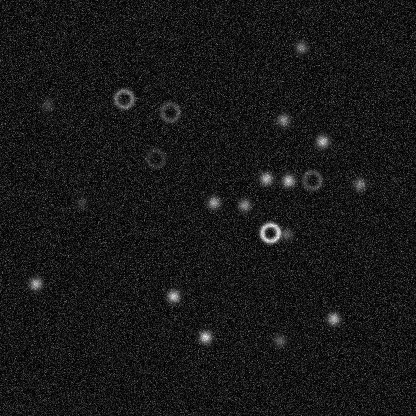Ring: (111, 86, 135, 110), (157, 99, 181, 123), (143, 146, 167, 170), (258, 220, 282, 244), (299, 167, 323, 191)
Spot: (271, 332, 287, 348), (351, 176, 367, 192), (39, 97, 55, 113), (205, 194, 221, 210), (165, 288, 181, 304), (325, 310, 341, 326), (73, 194, 89, 210), (280, 172, 296, 188), (314, 133, 330, 149), (258, 170, 274, 186), (275, 111, 291, 127), (292, 39, 308, 55), (278, 226, 294, 242), (27, 275, 43, 291), (236, 197, 252, 213), (197, 328, 213, 344)
